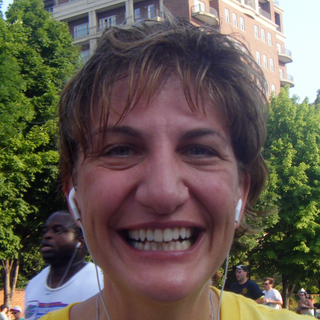eye: (179, 139, 225, 164), (95, 140, 143, 163)
